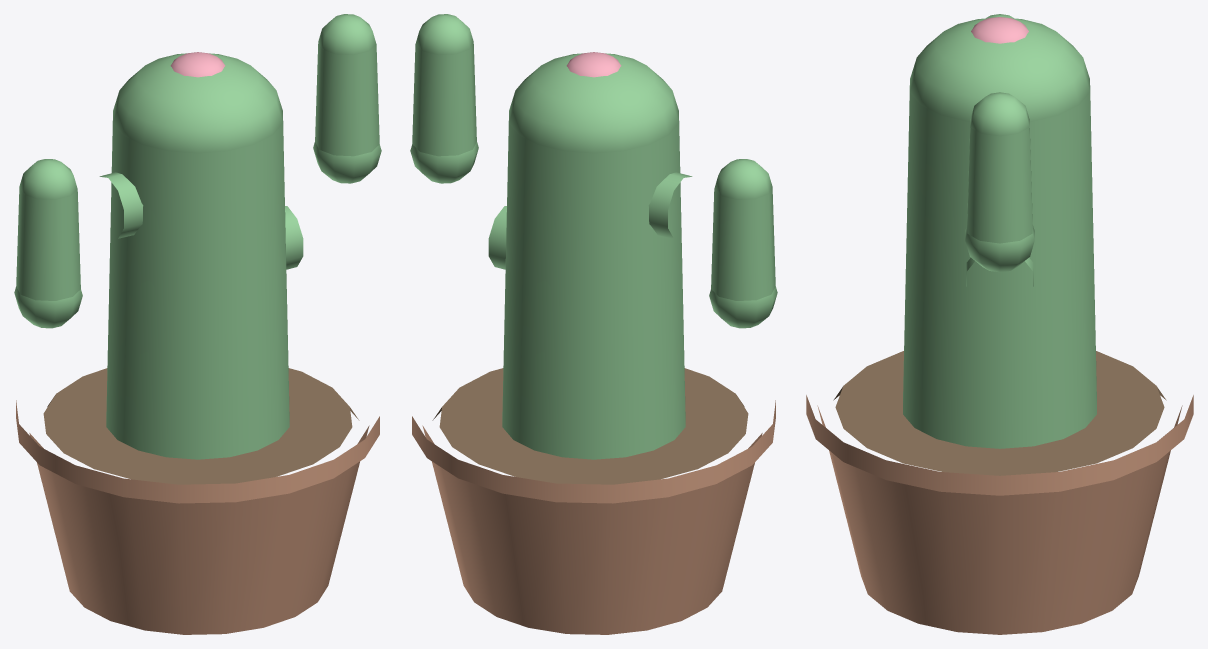
File: plant-cacto.glb
3 renders of one model, left to right at view 1: azimuth 30°, elevation 25°; view 2: azimuth 150°, elevation 25°; view 3: azimuth 270°, elevation 25°, orthographic. The views are drawn at different scales.
Visible parts, largest first — view 1: Corpo, Vaso, Terra, Flor; view 2: Corpo, Vaso, Terra, Flor; view 3: Corpo, Vaso, Terra, Flor.
Boxes of the visible parts, x1=… form: Corpo: x1=14, y1=14, x2=381, y2=459; Vaso: x1=16, y1=400, x2=379, y2=634; Terra: x1=43, y1=368, x2=359, y2=484; Flor: x1=170, y1=52, x2=225, y2=77; Corpo: x1=410, y1=14, x2=777, y2=459; Vaso: x1=412, y1=400, x2=775, y2=634; Terra: x1=432, y1=368, x2=748, y2=484; Flor: x1=566, y1=52, x2=621, y2=77; Corpo: x1=903, y1=14, x2=1096, y2=448; Vaso: x1=806, y1=395, x2=1193, y2=634; Terra: x1=833, y1=351, x2=1166, y2=475; Flor: x1=971, y1=17, x2=1028, y2=43.
Bounding box in the file's own units: 1.2 × 1.68 × 1.06.
